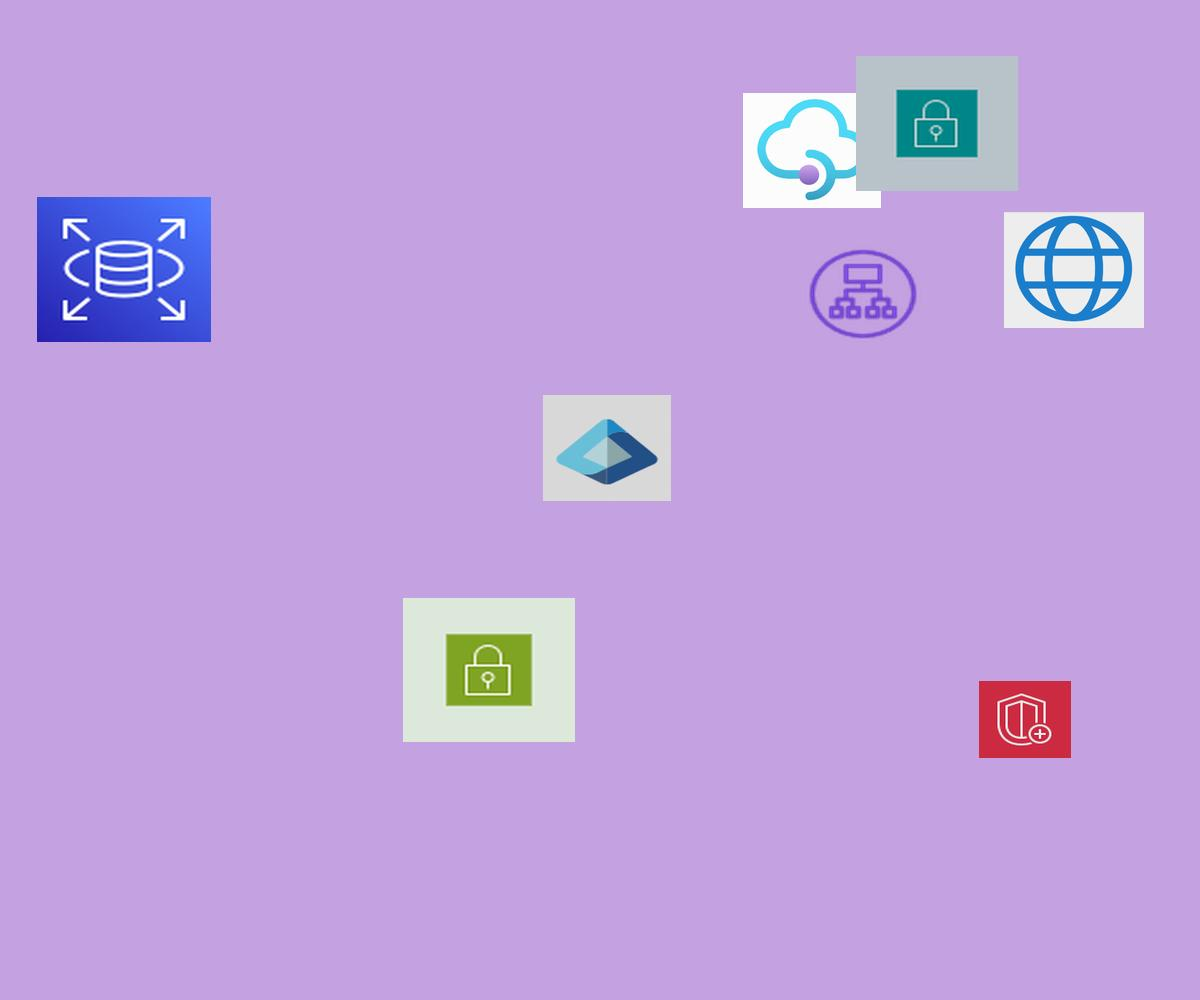AWS-Private-subnet: (856, 56, 1018, 191)
AWS-Public-subnet: (403, 598, 575, 742)
AWS-RDS: (37, 197, 211, 342)
AWS-Res_Elastic-Load-Balancing_Application-Load-Balancer: (805, 246, 921, 342)
AWS-Shield: (979, 681, 1071, 758)
Azure_api_gateway: (743, 93, 881, 208)
Azure_http: (1004, 212, 1144, 328)
Azure_microsoft_entra: (543, 395, 671, 501)
